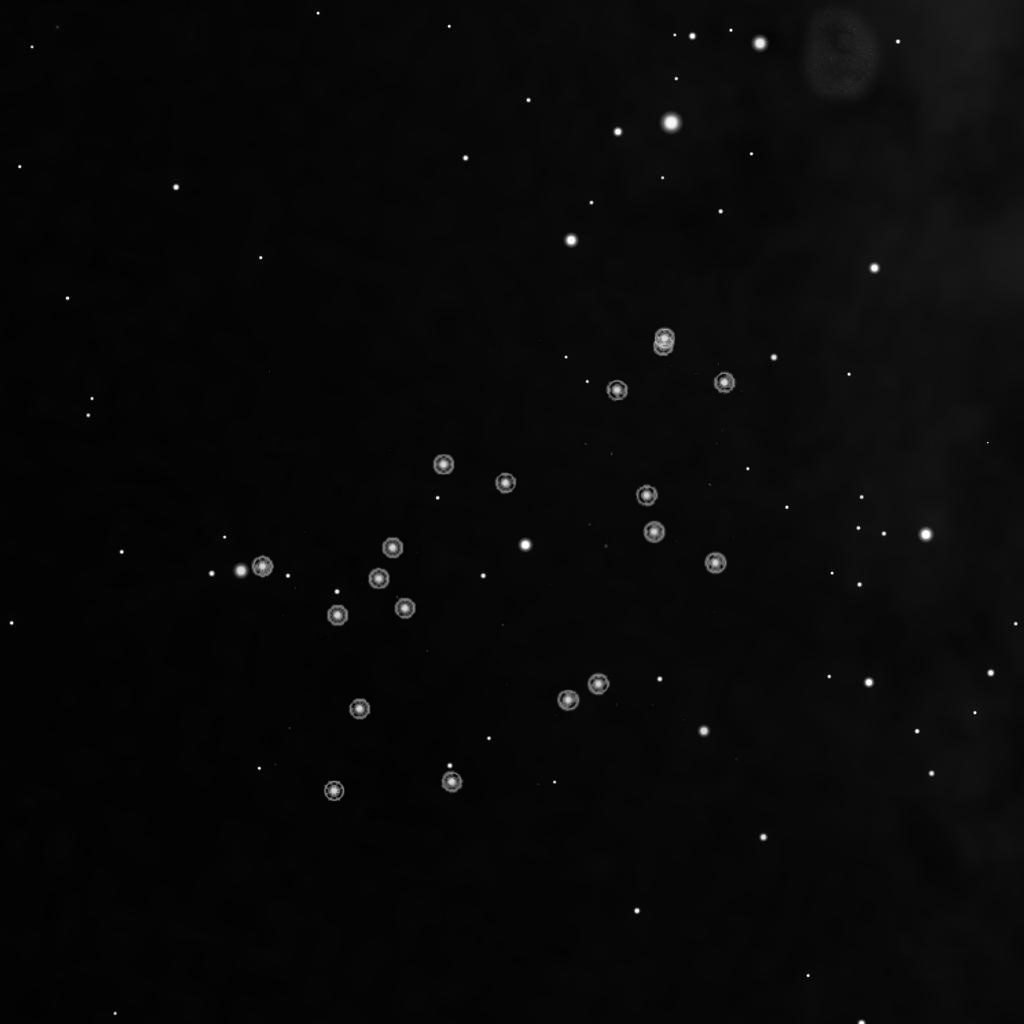canis_major: (319, 452, 523, 633)
